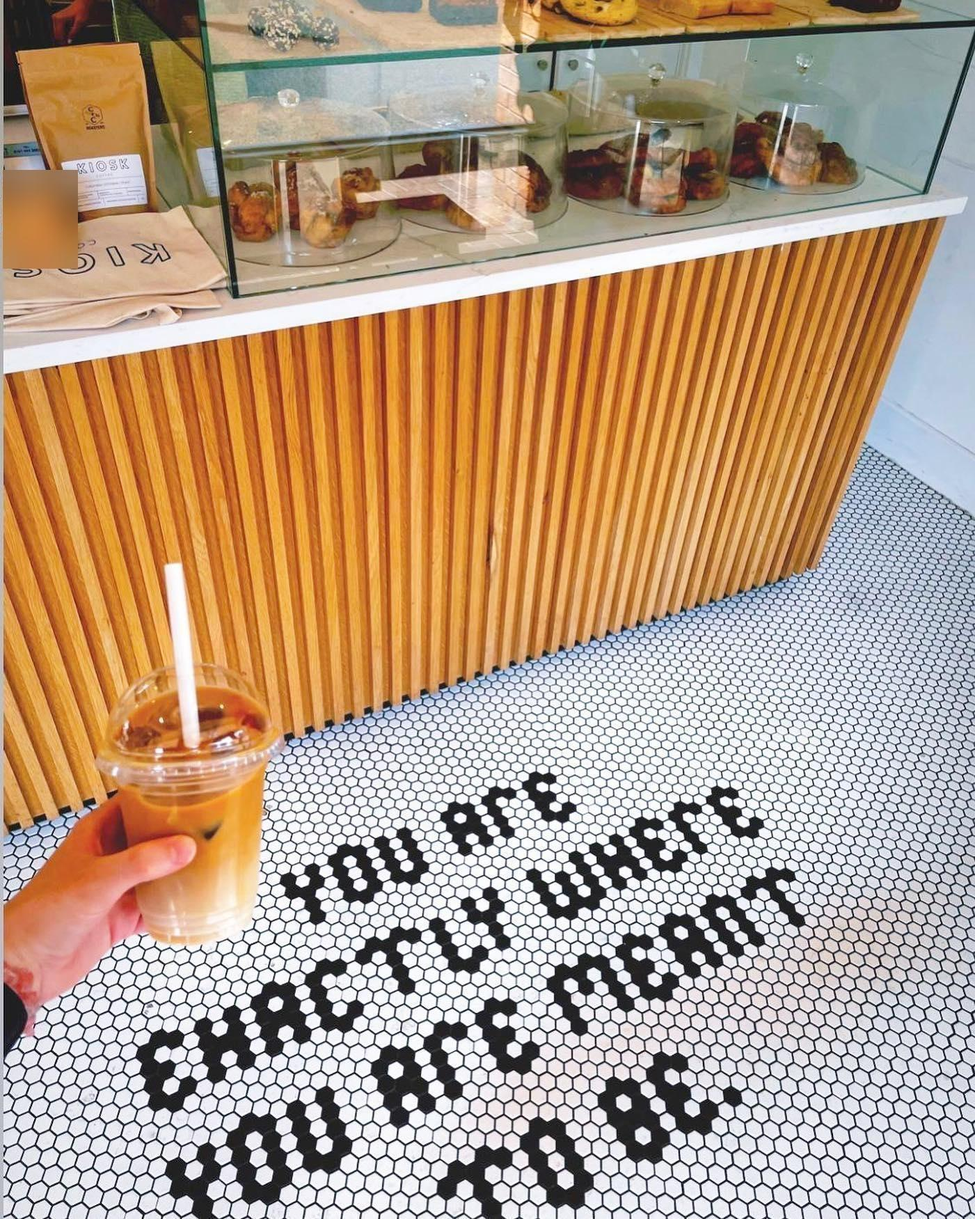cup-disposable: (102, 657, 285, 945)
